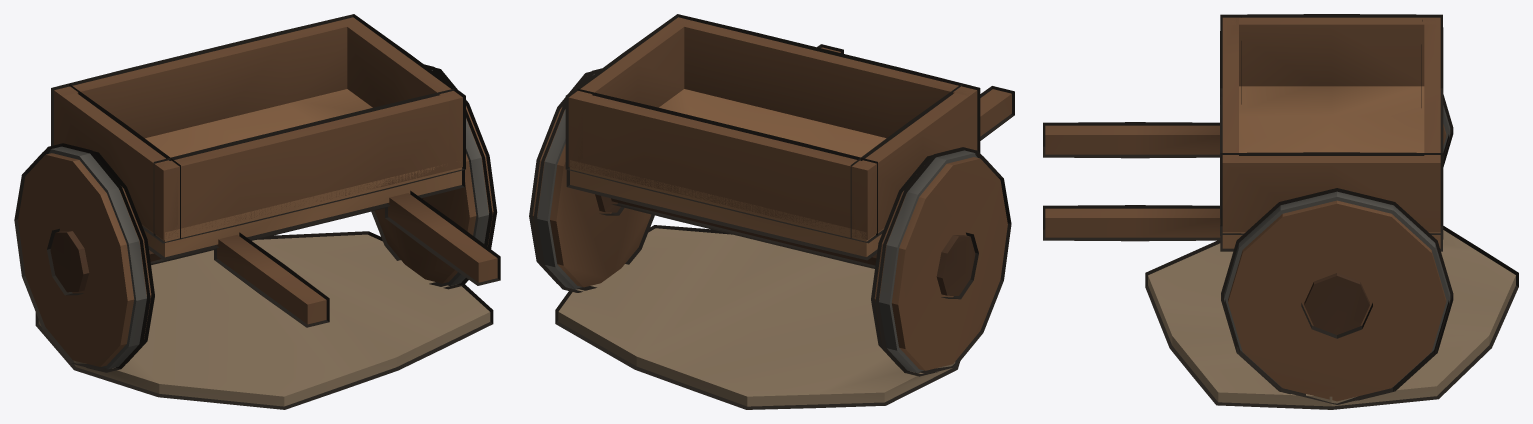
The model's file is charrette.glb.
3 views of the same model, side by side, from view 1: azimuth 30°, elevation 25°; view 2: azimuth 150°, elevation 25°; view 3: azimuth 270°, elevation 25° (orthographic).
Visible parts, largest first — view 1: charrette, charrette_outline; view 2: charrette, charrette_outline; view 3: charrette, charrette_outline.
Boxes of the visible parts, bbox=[...] form: charrette: bbox=[18, 17, 497, 406]; charrette_outline: bbox=[14, 14, 500, 409]; charrette: bbox=[532, 17, 1011, 406]; charrette_outline: bbox=[529, 14, 1014, 409]; charrette: bbox=[1045, 17, 1515, 406]; charrette_outline: bbox=[1043, 14, 1518, 409].
Size of the model in its own units: 1.61 by 0.9398 by 1.74.
